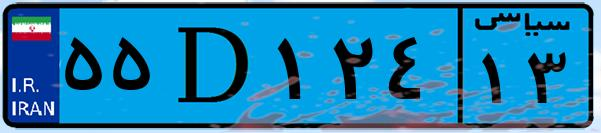1: (270, 28, 330, 110), (475, 38, 525, 113)
2: (330, 28, 385, 110)
3: (525, 38, 570, 115)
4: (385, 28, 445, 110)
5: (57, 26, 110, 100), (110, 28, 158, 98)
D: (158, 12, 270, 120)
